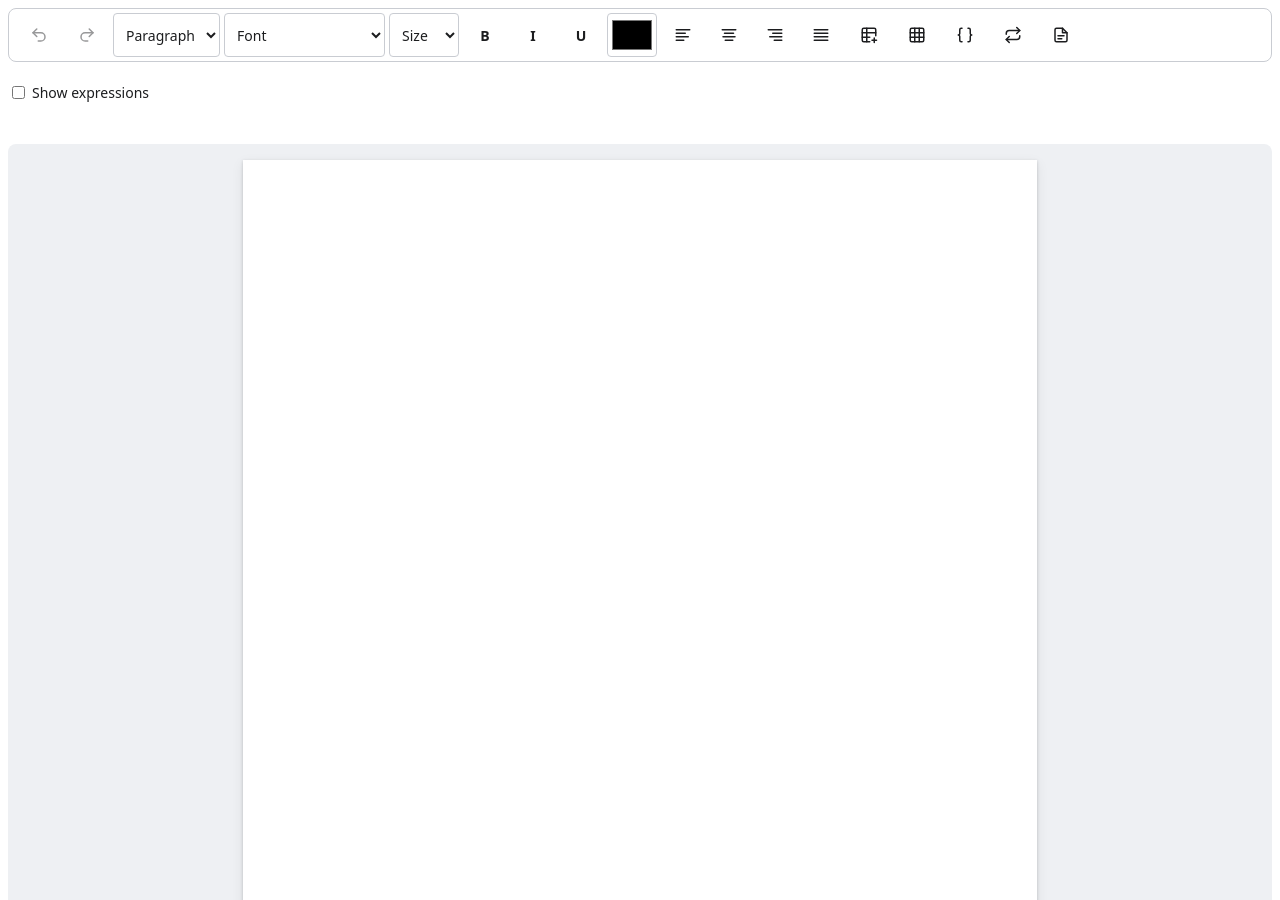
Scenario: the document editor › does not offer the document itself as a template to embed
The width and height of the screenshot is (1280, 900).
Step 1. Click the button named "Insert template" → x=1061, y=35, box left=1039, top=13, right=1083, bottom=57
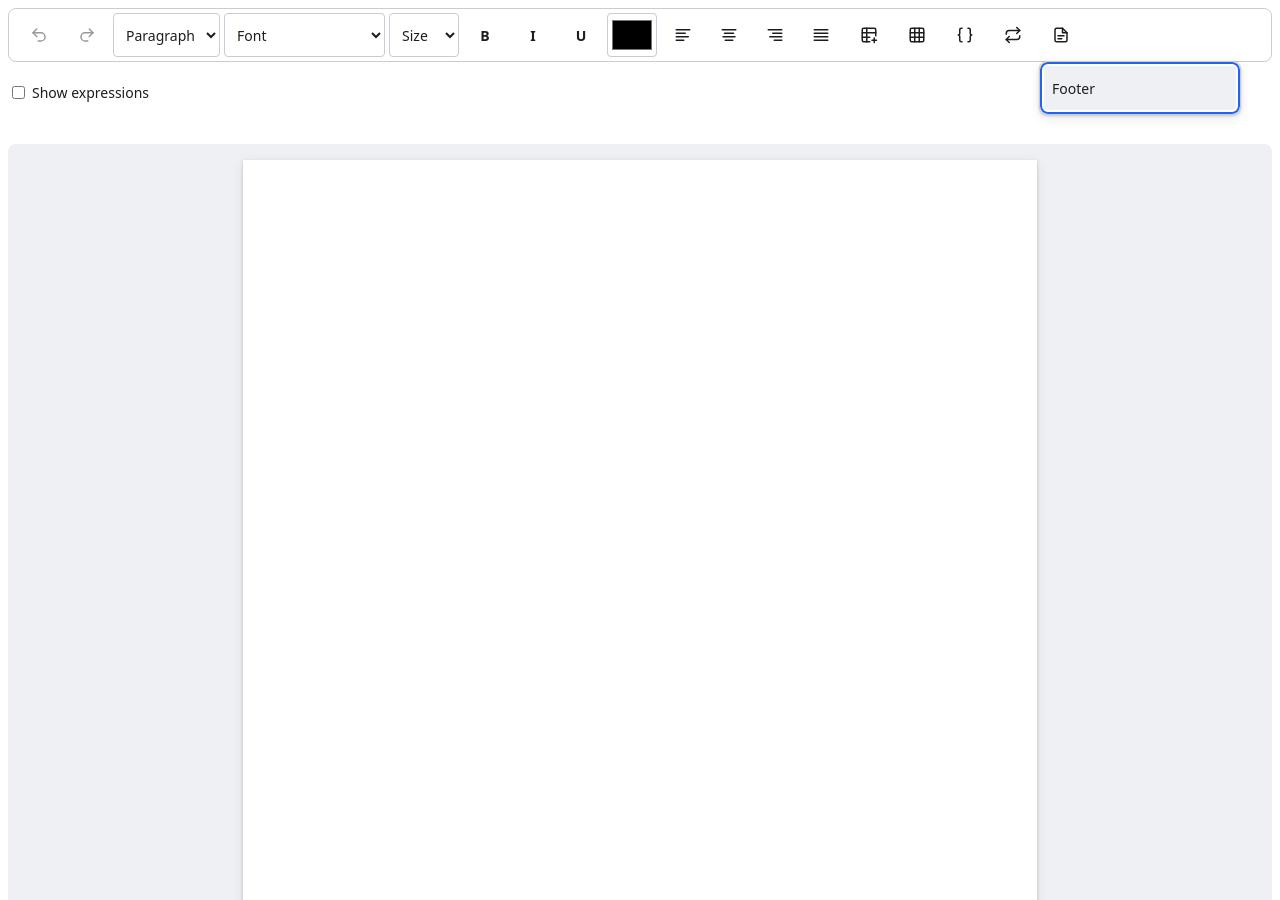
Expected: the menu items read "Footer", in this order, left=1044, top=66, right=1236, bottom=110
